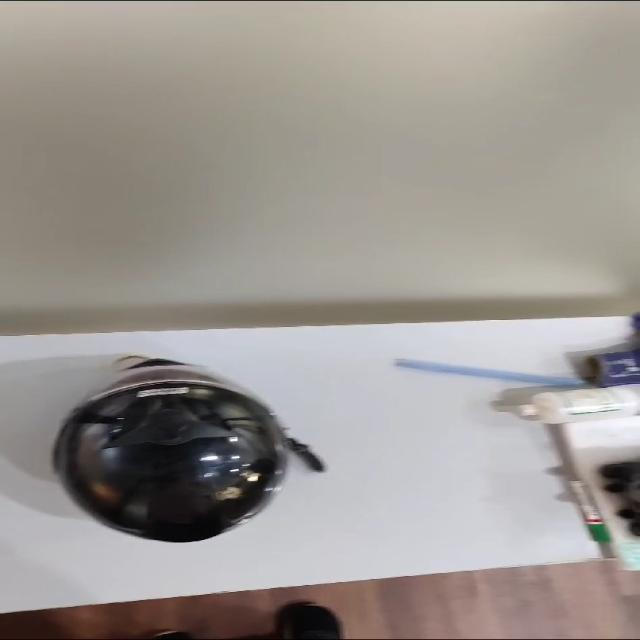helmet: (54, 356, 324, 541)
